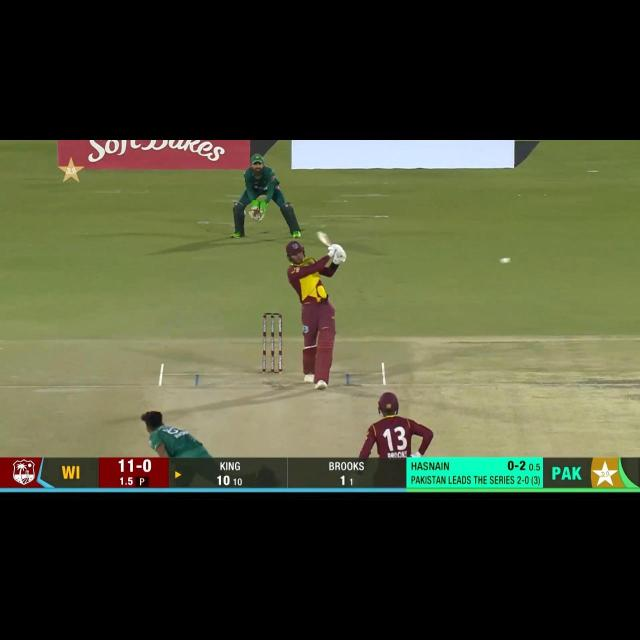bat: (317, 229, 331, 248)
toe: (316, 230, 327, 237)
